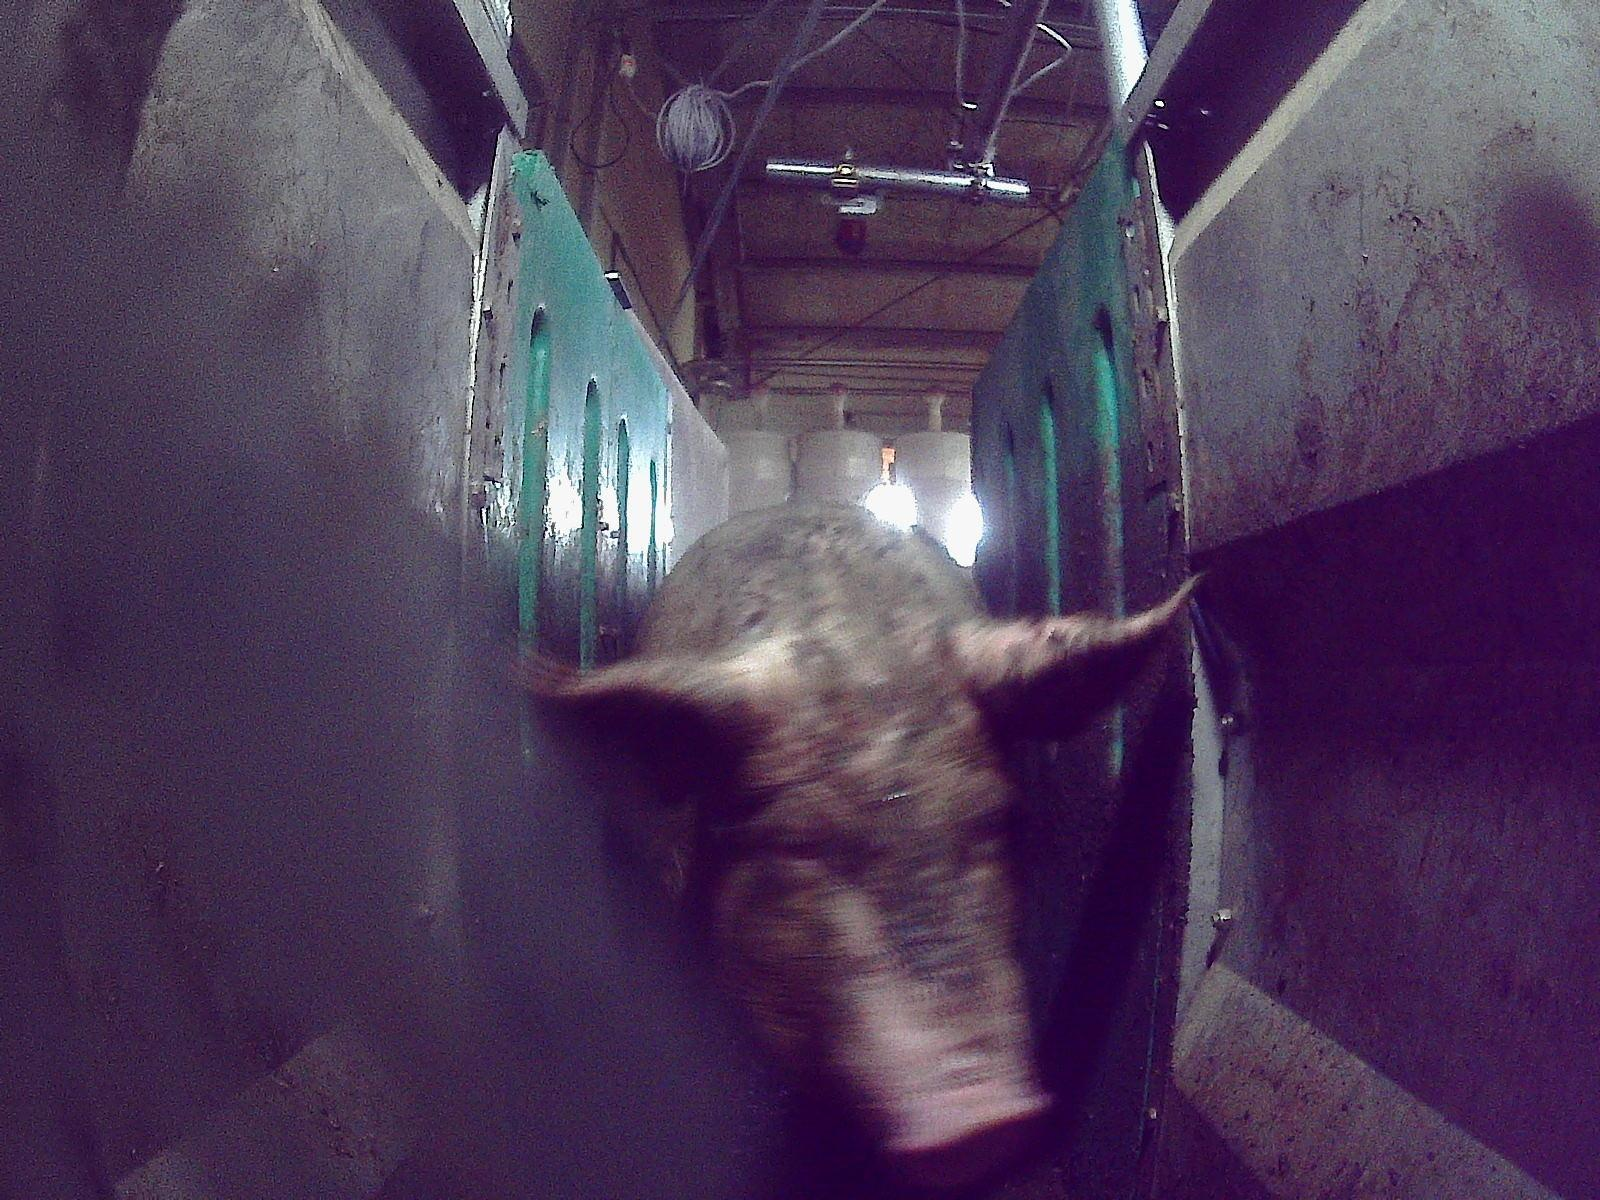Face: (678, 617, 1062, 1193)
